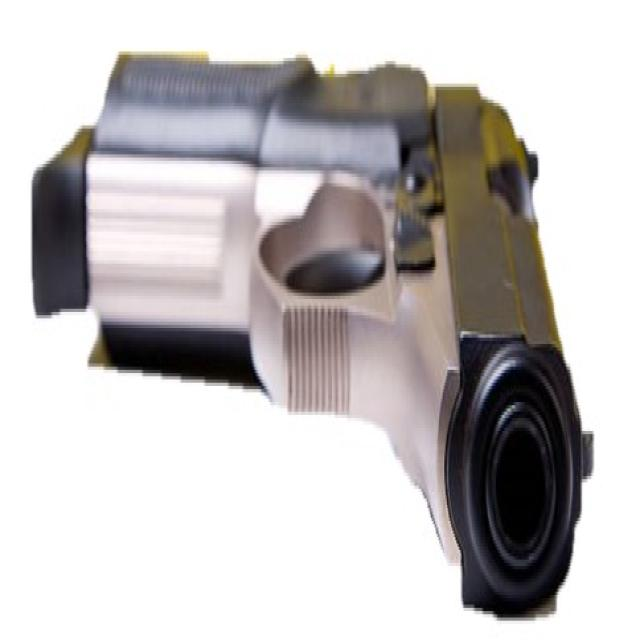pistol: (28, 25, 602, 629)
